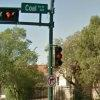Traffic light: (46, 35, 73, 74)
